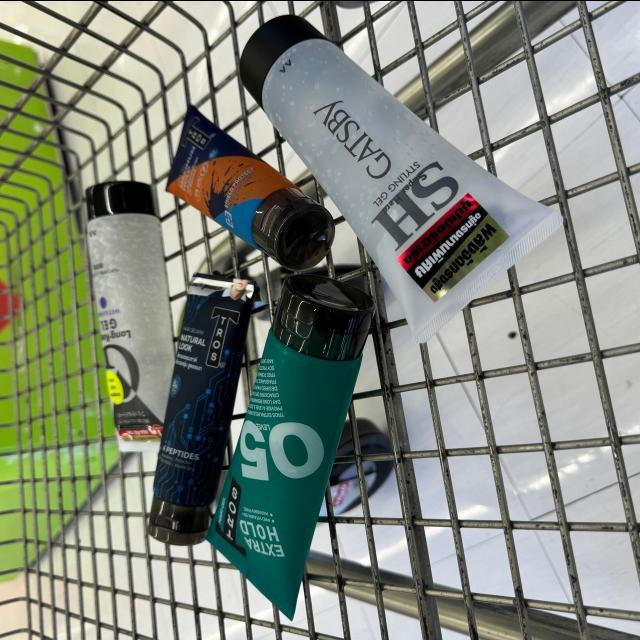Squeeze Tube: (223, 9, 578, 359), (195, 269, 389, 632), (140, 259, 259, 553), (154, 92, 335, 282), (71, 174, 181, 461)
